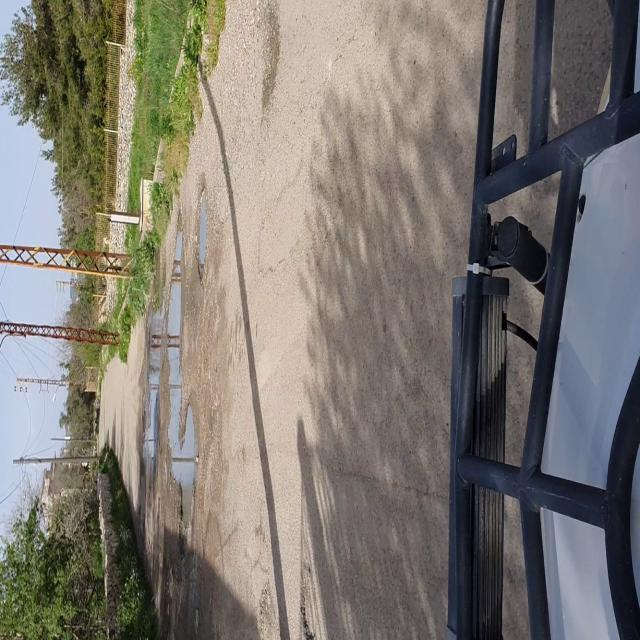pothole: (164, 213, 183, 393), (180, 401, 200, 533), (196, 187, 209, 280)
